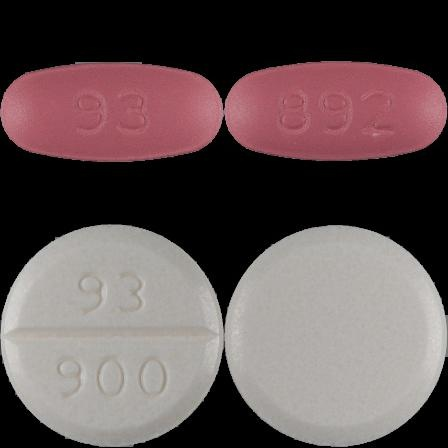0093-0892: (0, 0, 224, 224)
